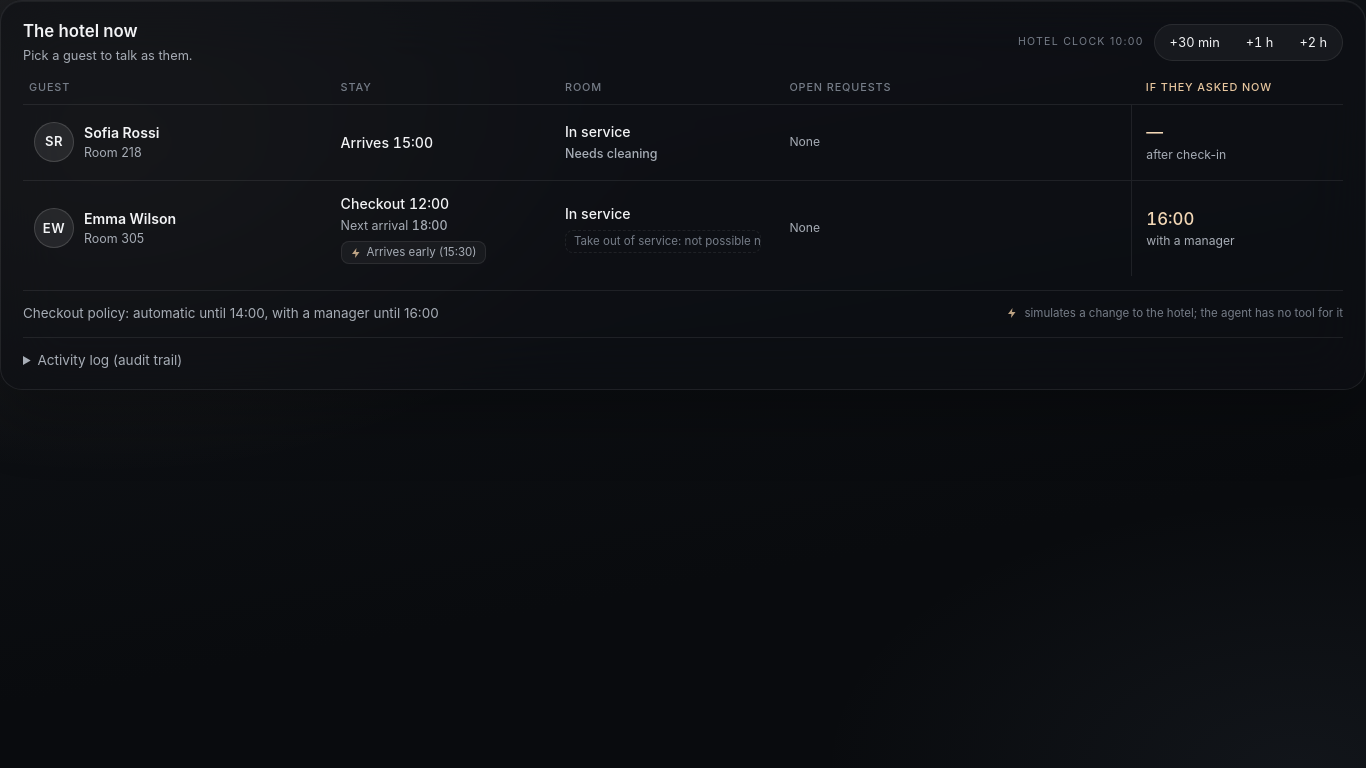
Test: Hotel board › simulates a change from the cell it changes and marks what moved
Click the button with test id "world-event-arrival_305_early": (413, 253) [341,241,486,264]
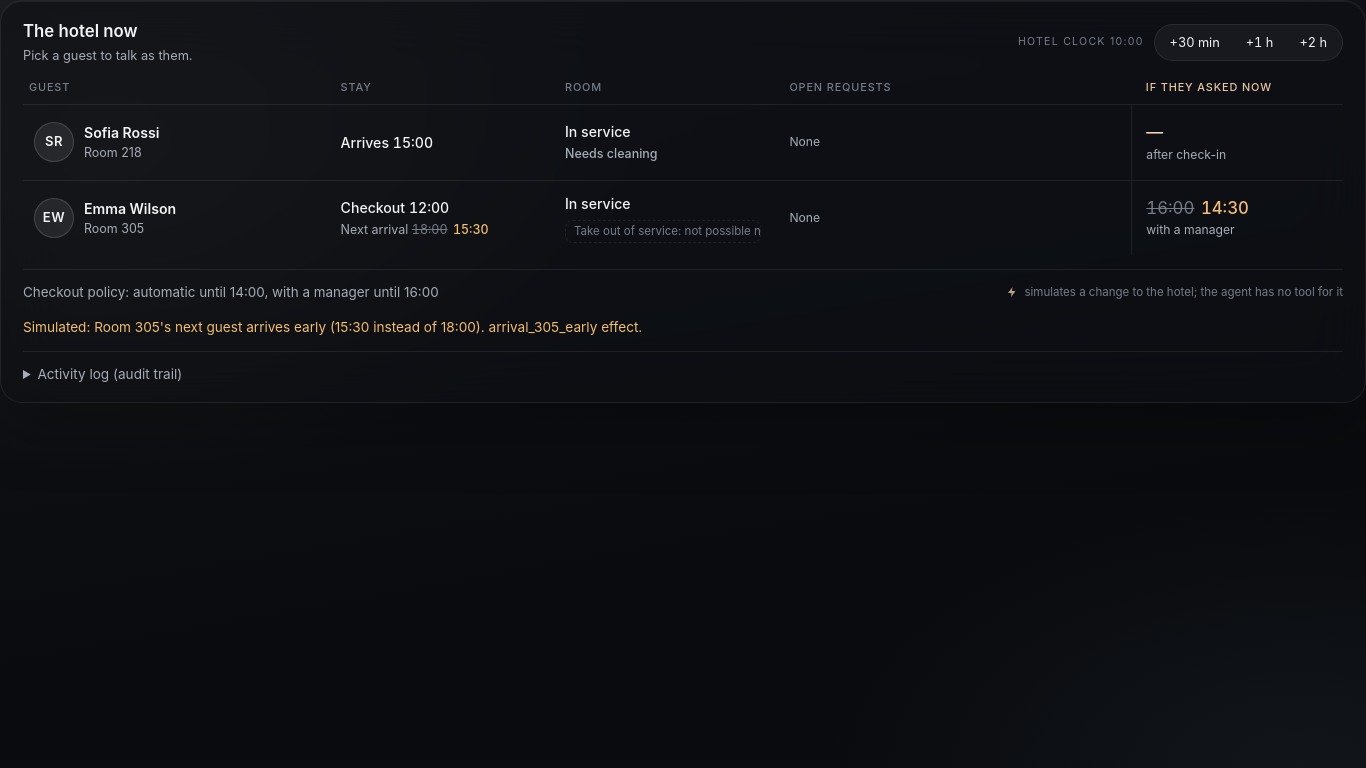
Check: the message with test id "world-result" shows "Simulated: Room 305's next guest arrives early (15:30 instead of 18:00). arrival_305_early effect.", box [23,318,642,334]
Check: the element with test id "changed-305:next_arrival" reads "18:00 15:30", box [408,222,492,237]
Check: the element with test id "changed-305:latest" reads "16:00 14:30", box [1142,196,1253,221]
